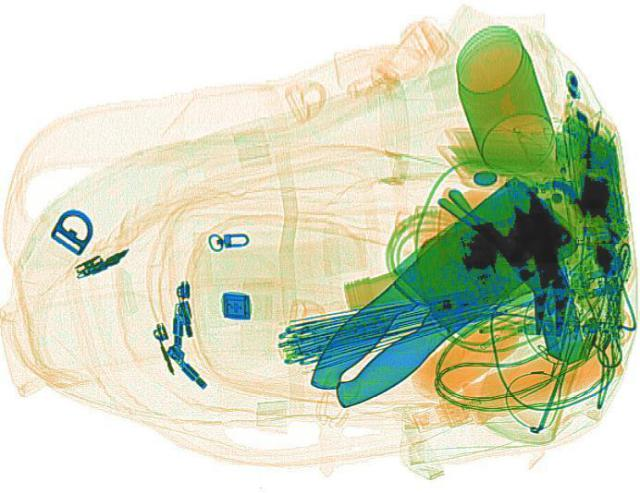Knife: (288, 172, 606, 421), (276, 173, 594, 414)
